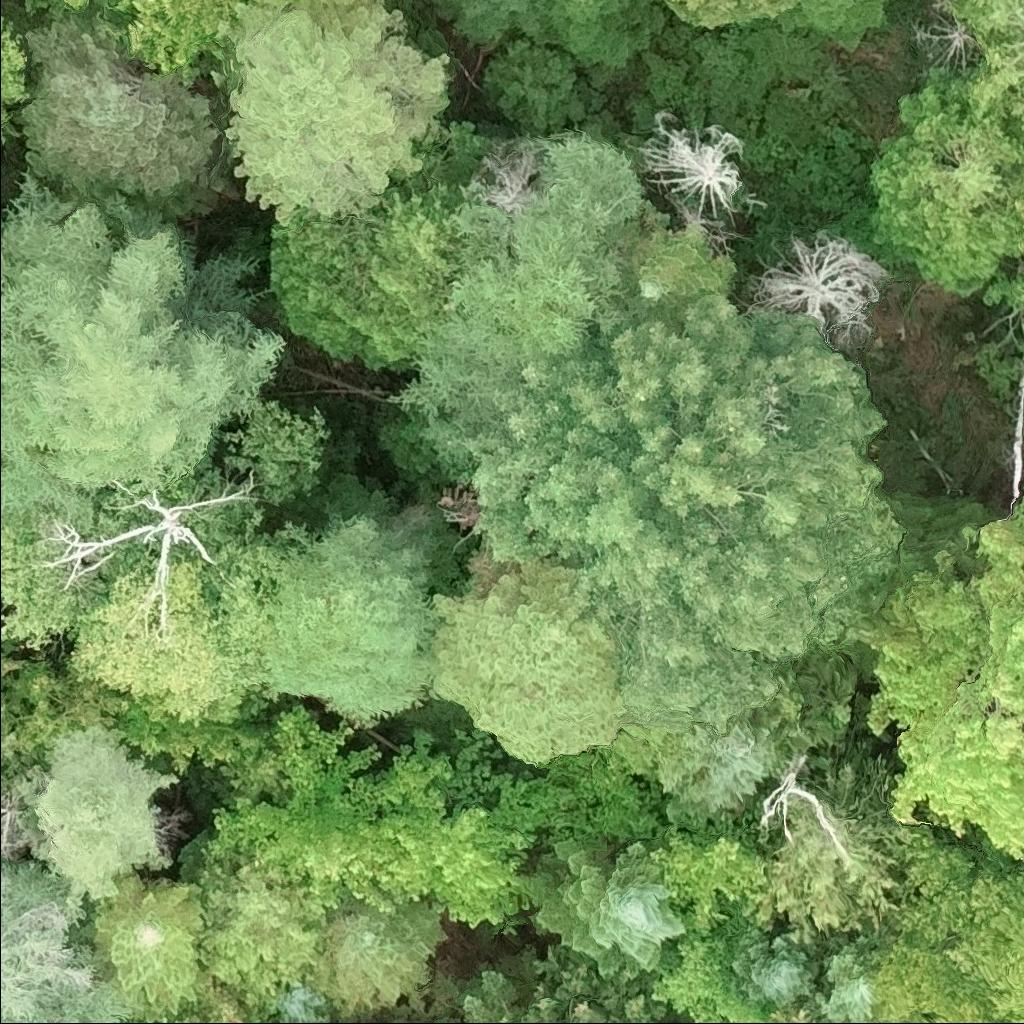crown: (381, 294, 904, 737), (0, 164, 291, 542), (379, 129, 652, 427), (260, 114, 498, 380), (209, 0, 459, 222), (253, 472, 469, 728), (865, 520, 1023, 862), (12, 10, 245, 221), (200, 704, 430, 915), (426, 557, 627, 768), (64, 539, 260, 724), (872, 69, 1023, 296), (856, 823, 1023, 1023), (41, 485, 253, 642), (35, 723, 179, 901), (0, 860, 139, 1023), (536, 843, 687, 986), (732, 223, 894, 354), (200, 859, 329, 1009), (649, 892, 782, 1023), (91, 872, 204, 1023), (304, 900, 448, 1017), (426, 809, 560, 929), (631, 111, 745, 250), (617, 198, 735, 330), (463, 947, 666, 1023), (645, 828, 770, 941), (349, 730, 451, 862), (92, 0, 236, 86), (533, 0, 671, 89), (224, 391, 331, 505), (950, 0, 1023, 126), (733, 933, 817, 1009), (425, 0, 537, 54), (788, 0, 894, 50), (0, 13, 35, 158), (816, 938, 874, 1023), (195, 968, 276, 1023), (284, 0, 377, 19), (0, 703, 18, 786), (986, 270, 1023, 306), (657, 0, 709, 14), (769, 1011, 819, 1023), (1015, 197, 1023, 258), (58, 0, 95, 13), (1021, 130, 1023, 146), (1021, 193, 1023, 200)
